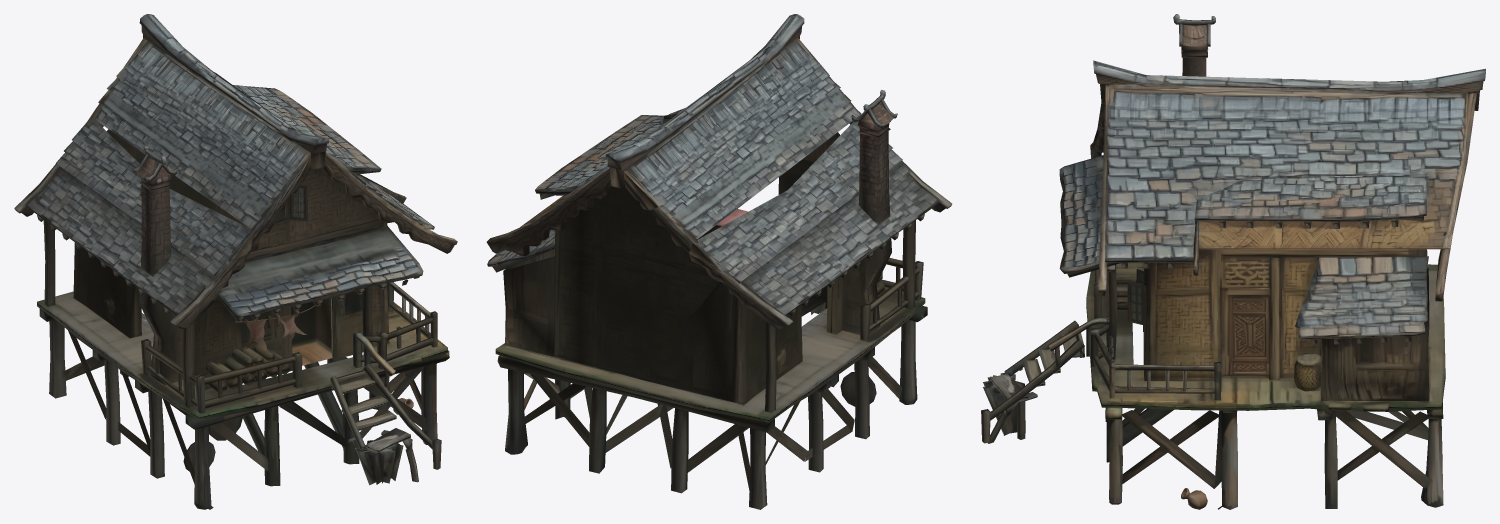
The model's file is wooden+stilt+house+3d+model.fbx.
3 views of the same model, side by side, from view 1: azimuth 30°, elevation 25°; view 2: azimuth 150°, elevation 25°; view 3: azimuth 270°, elevation 25° (orthographic). The views are drawn at different scales.
Parts seen in each view (by area): view 1: tripo_7cd130be_d8f5_4d3a_b24c_47fb3475ff77; view 2: tripo_7cd130be_d8f5_4d3a_b24c_47fb3475ff77; view 3: tripo_7cd130be_d8f5_4d3a_b24c_47fb3475ff77.
Part boxes in pixels (x1,y1,x2,y2): tripo_7cd130be_d8f5_4d3a_b24c_47fb3475ff77: (14, 14, 457, 509); tripo_7cd130be_d8f5_4d3a_b24c_47fb3475ff77: (486, 14, 952, 509); tripo_7cd130be_d8f5_4d3a_b24c_47fb3475ff77: (981, 14, 1485, 509).
Bounding box in the file's own units: 0.7876 × 0.8403 × 0.9995.
